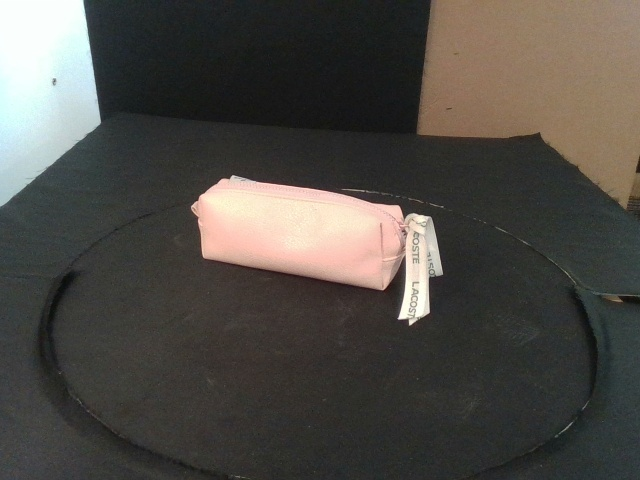pencil_case: (196, 177, 405, 291)
